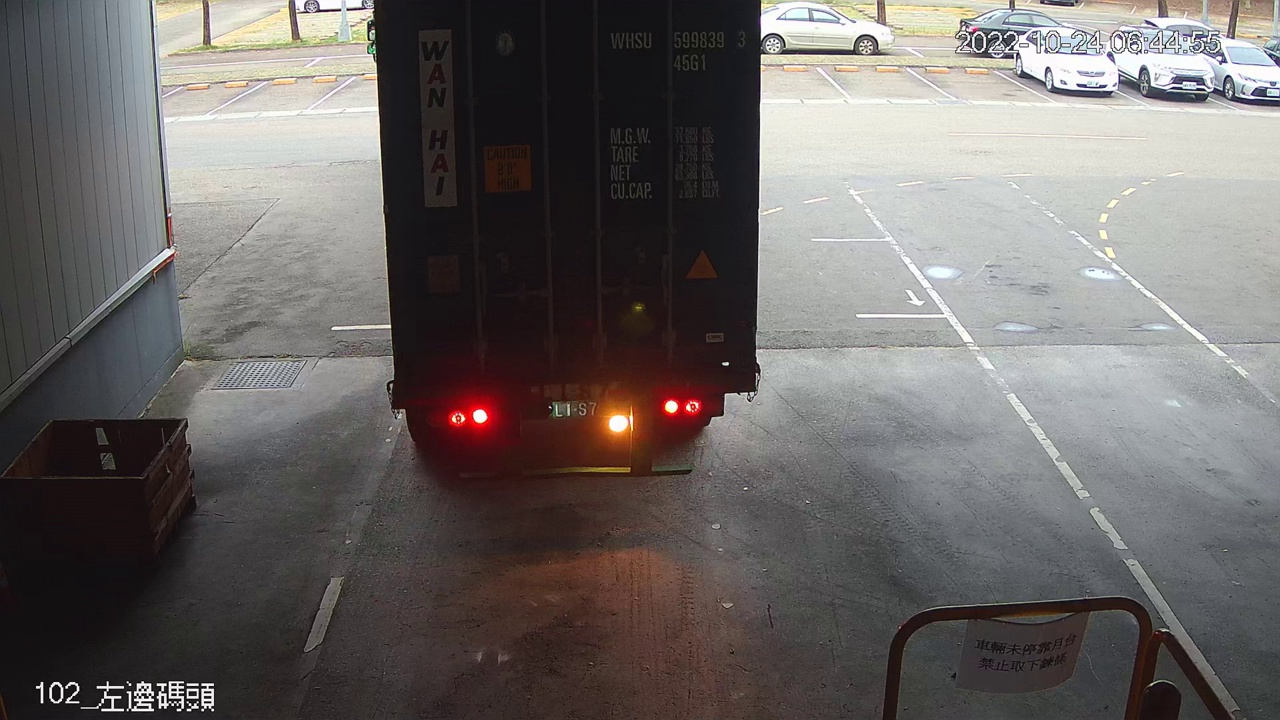container: (602, 23, 754, 77)
